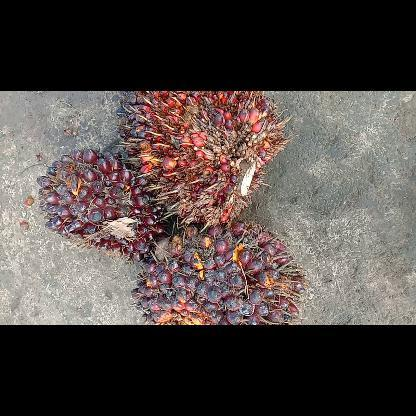Kurang masak: (132, 223, 304, 324), (37, 150, 165, 260)
Terlalu masak: (117, 90, 287, 224)
